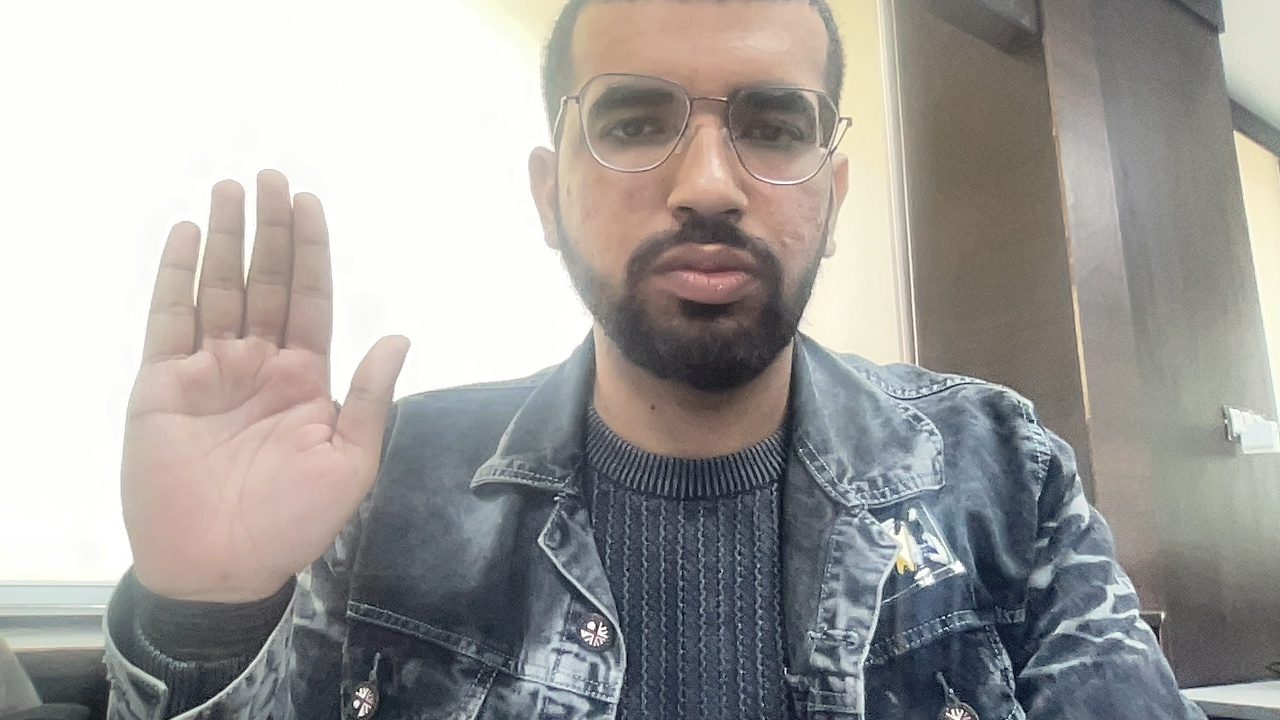Hello: (102, 147, 419, 640)
